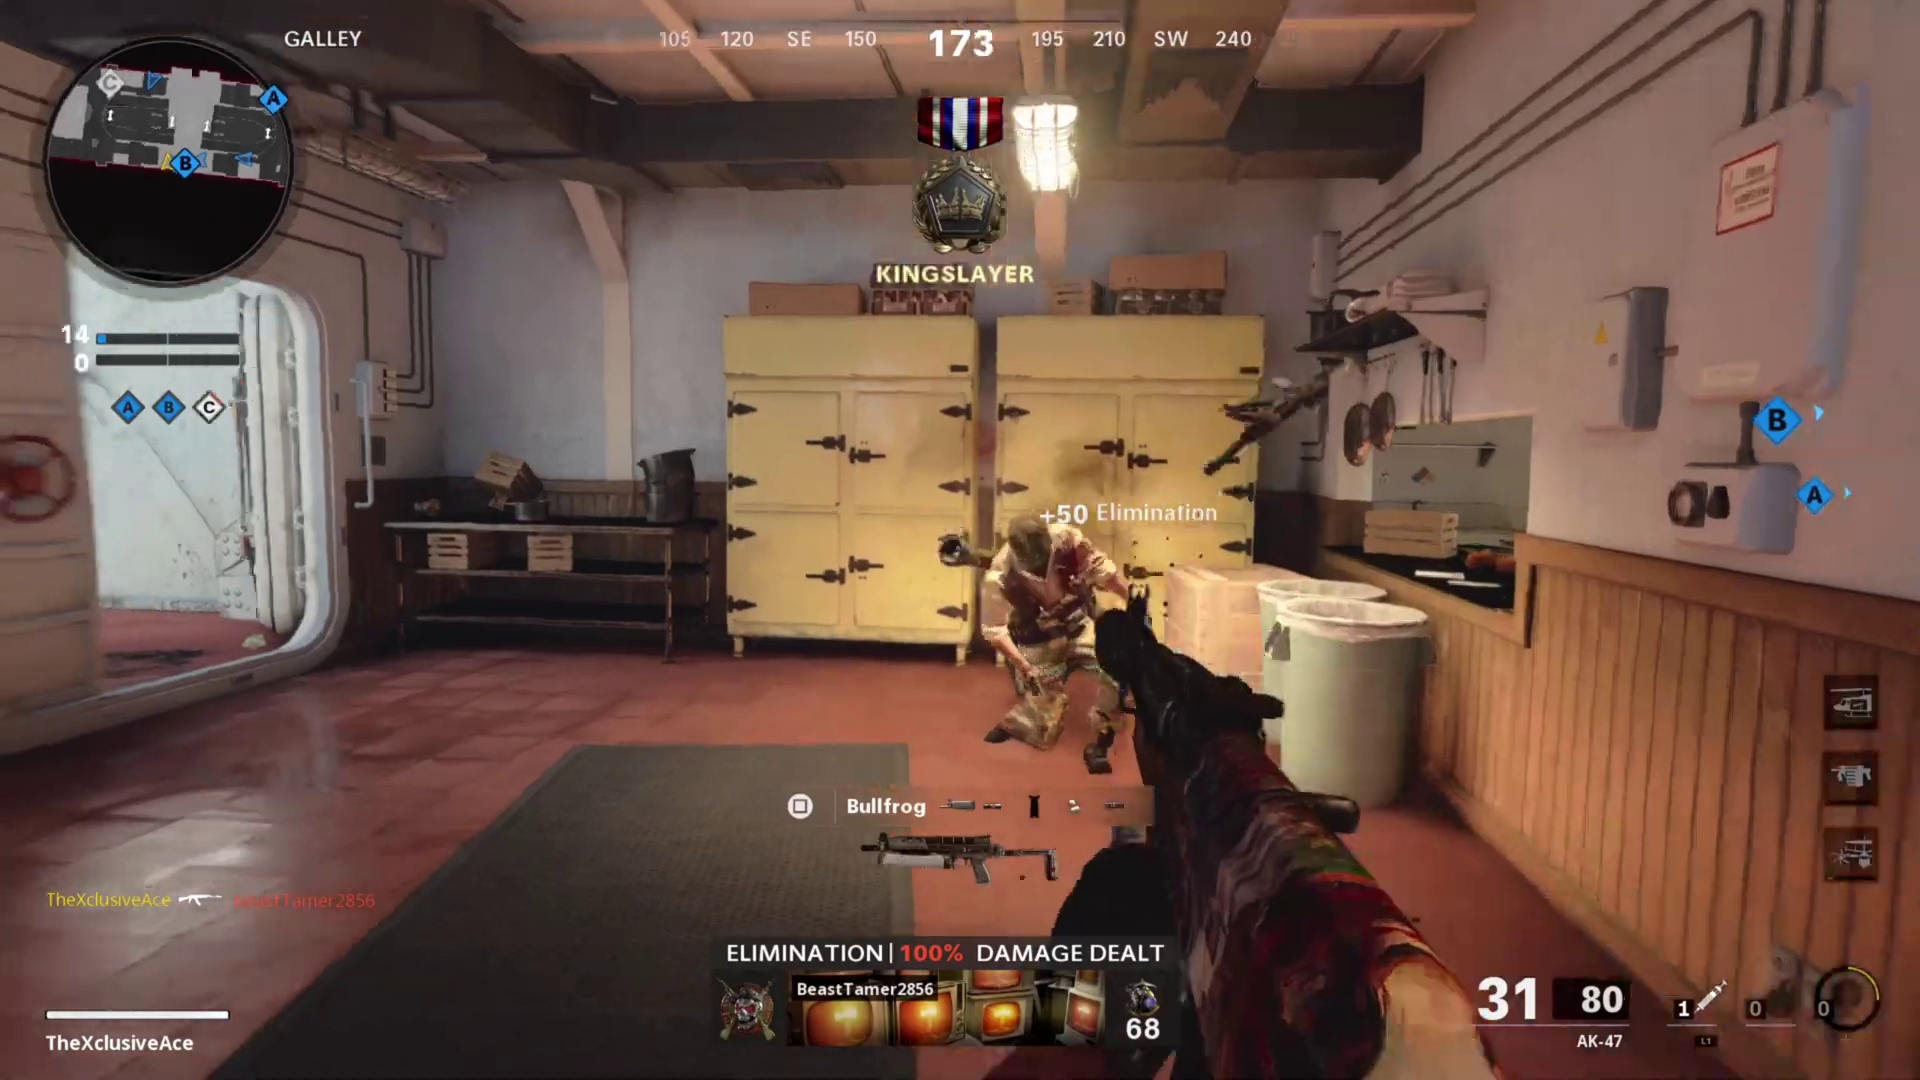head: (1004, 512, 1055, 584)
person: (972, 522, 1123, 749)
